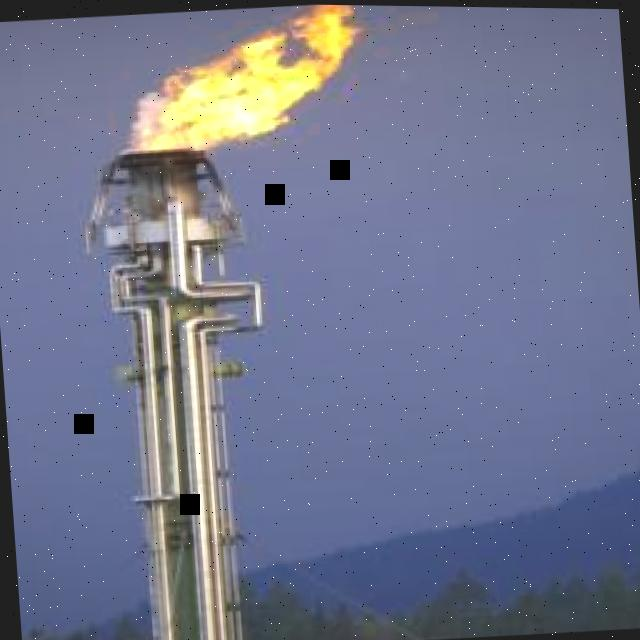fire: (137, 4, 365, 150)
